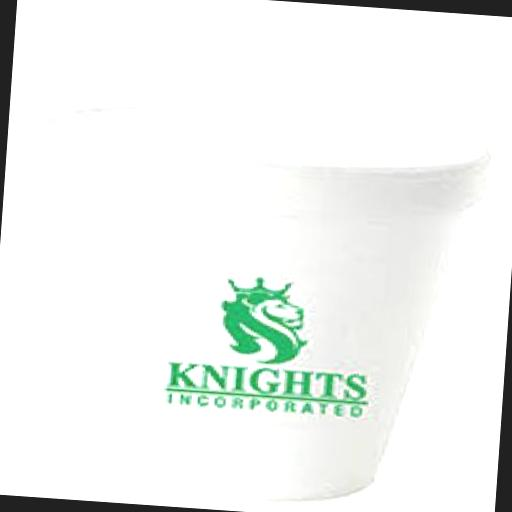paper: (16, 91, 490, 511)
